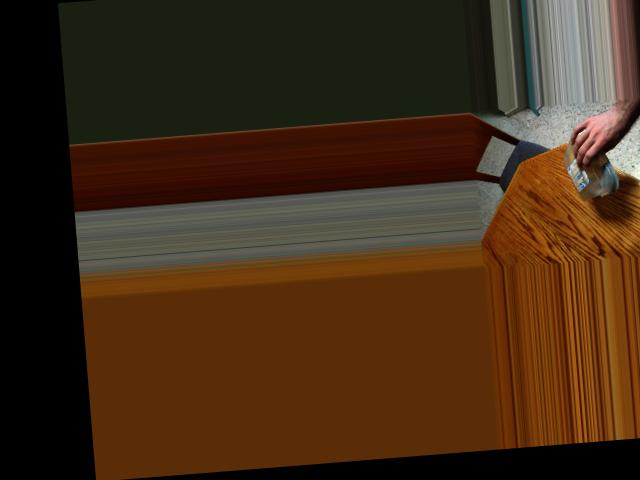cheese: (566, 138, 612, 194)
